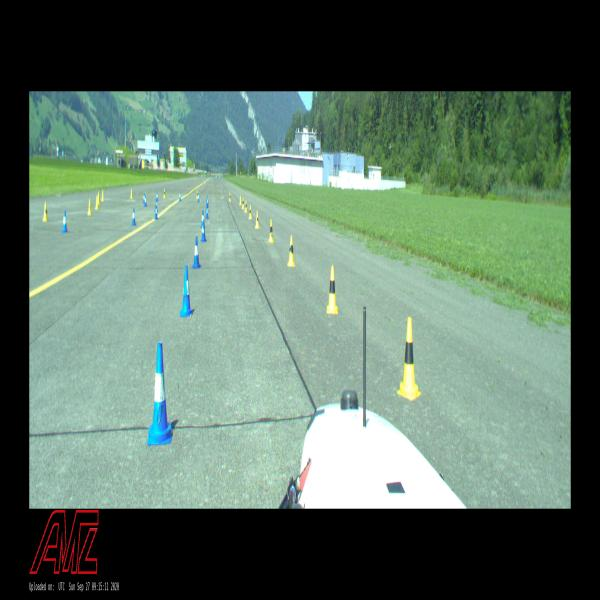blue_cone: (147, 344, 173, 444), (180, 265, 193, 316), (193, 236, 200, 268), (61, 211, 68, 232), (201, 220, 206, 241), (131, 208, 136, 225), (201, 210, 205, 228), (205, 204, 209, 219), (154, 206, 158, 219), (154, 199, 158, 211), (206, 194, 209, 207), (142, 193, 145, 205), (205, 200, 208, 212), (156, 192, 158, 202), (179, 192, 181, 201), (198, 193, 199, 202)
yellow_cone: (398, 317, 422, 400), (326, 265, 338, 314), (288, 236, 296, 266), (268, 219, 274, 243), (42, 202, 48, 221), (255, 211, 259, 228), (88, 199, 92, 215), (95, 195, 99, 209), (249, 205, 252, 218), (130, 188, 133, 199), (239, 195, 242, 206), (242, 198, 245, 208), (163, 189, 166, 198), (98, 192, 100, 205), (245, 201, 247, 212), (102, 190, 104, 201), (229, 193, 231, 202), (196, 190, 198, 198)
